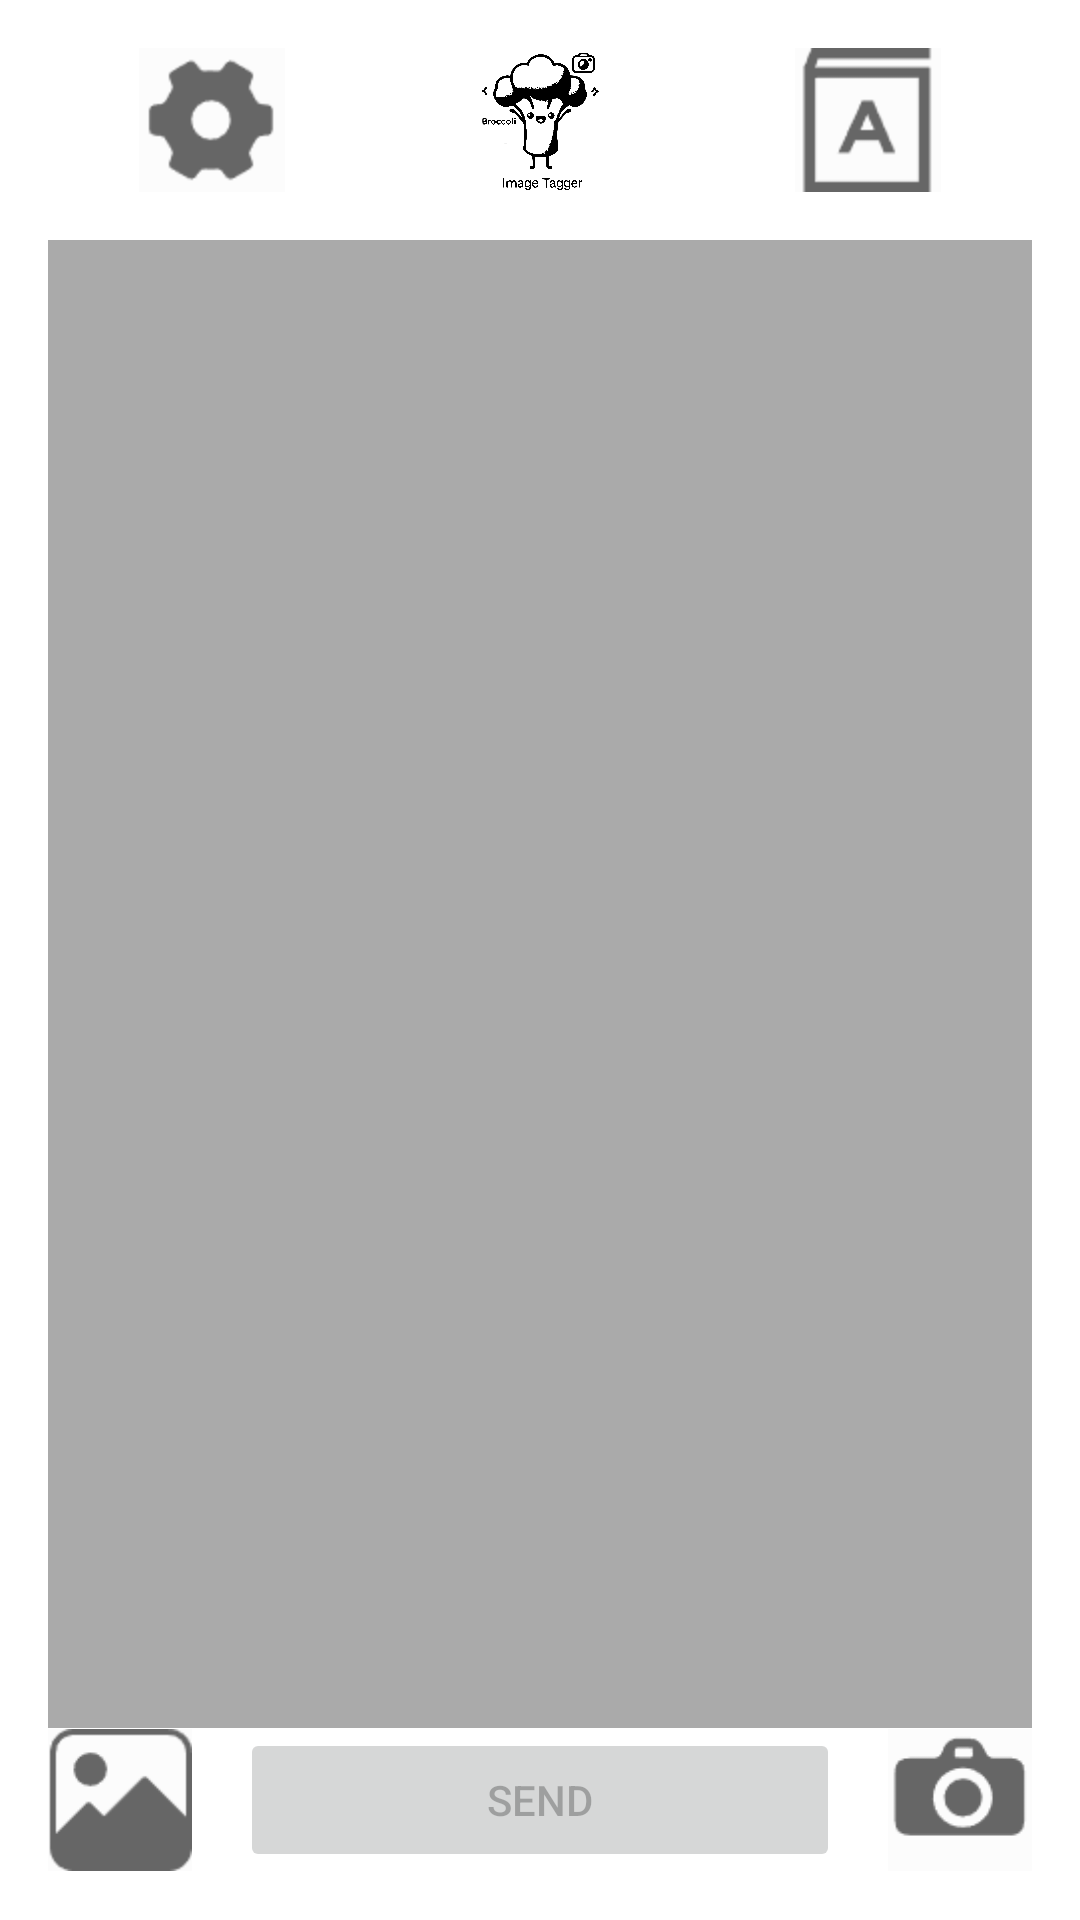

Named icons in this screenshot (1080 x 1920) and their centers, [x,y]:
camera: [959,1787]
photo album icon: [120,1800]
setting icon: [211,120]
wordbook icon: [867,120]
